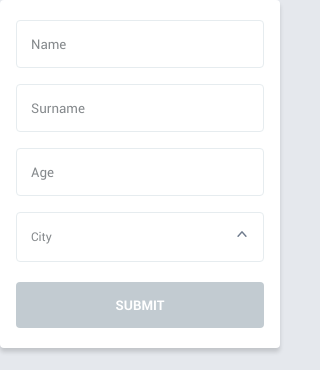
Test case: Edit data tests › Validation data tests › Name empty value
Type "test text" into the field with placeholder "Name" at (140, 44), box [16,20,264,68]
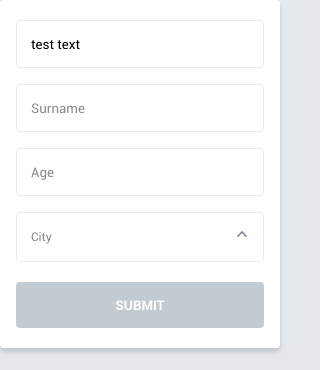
Clear the field with placeholder "Name" at (140, 44), box [16,20,264,68]
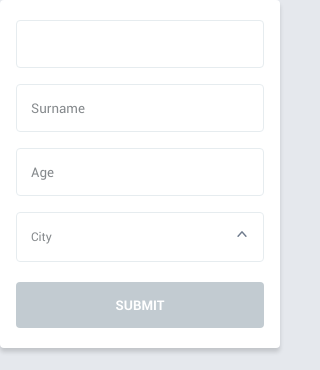
Press Tab
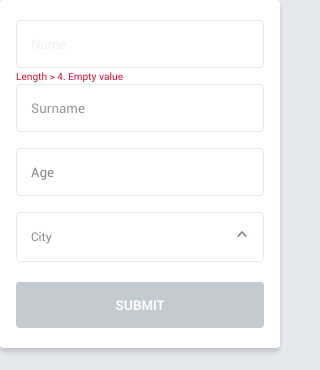
Result: the text "Length > 4. Empty value" is shown at [16,68,123,84]
